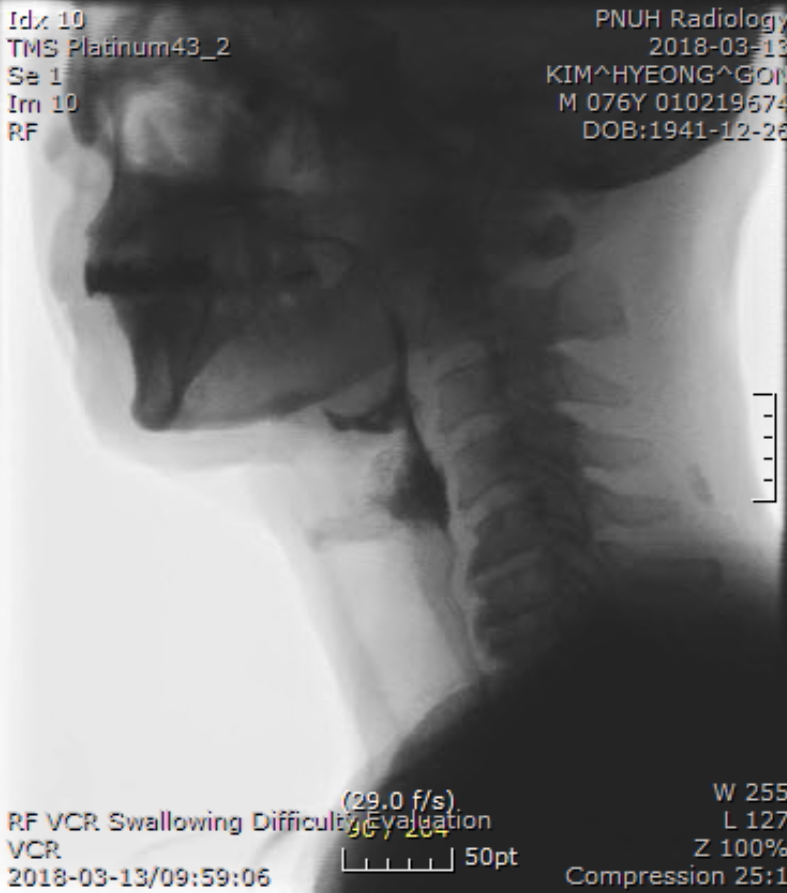dros: (419, 486, 465, 534)
food: (362, 445, 452, 530)
uros: (320, 390, 394, 432)
